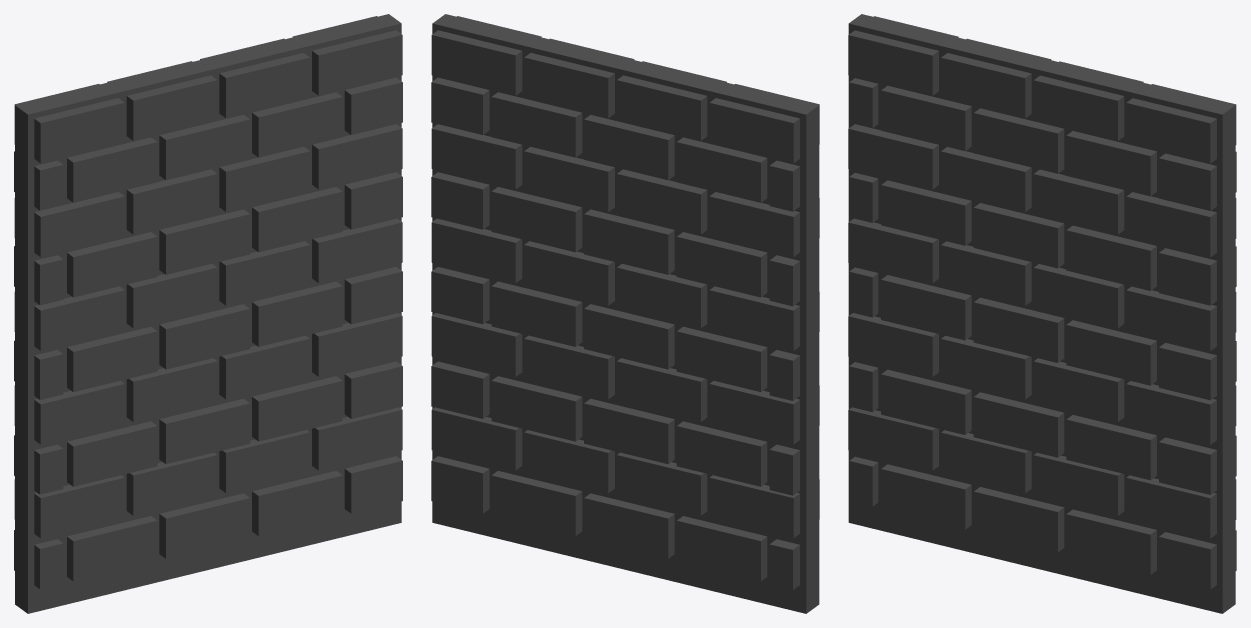
The model's file is Wall.fbx.
3 renders of one model, left to right at view 1: azimuth 30°, elevation 25°; view 2: azimuth 150°, elevation 25°; view 3: azimuth 330°, elevation 25°, orthographic.
Parts seen in each view (by area): view 1: Wall; view 2: Wall; view 3: Wall.
Part boxes in pixels (left/top/right/bottom): Wall: left=14, top=14, right=402, bottom=613; Wall: left=431, top=14, right=819, bottom=613; Wall: left=848, top=14, right=1236, bottom=613.
Bounding box in the file's own units: 333 × 425 × 41.04.
